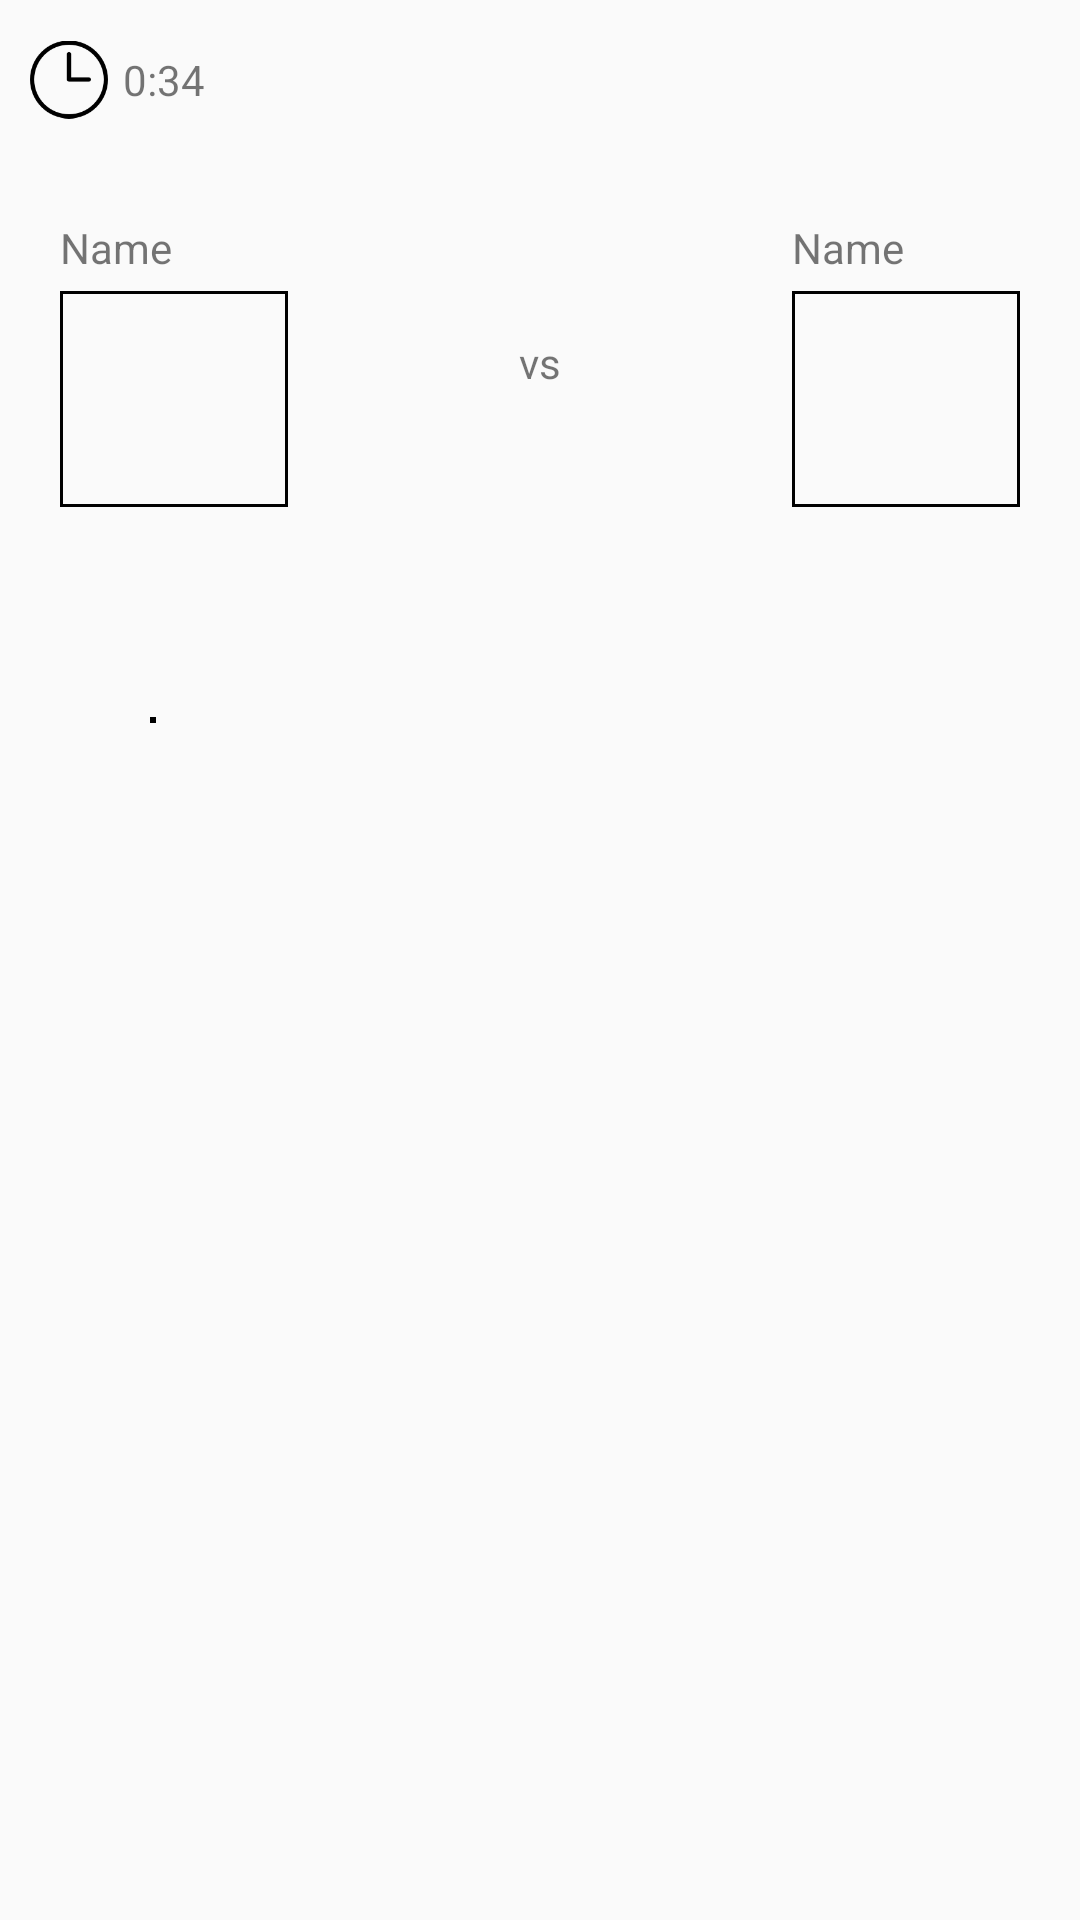

Icons on this 1080px×1920px Android screen, each with its box as (x1, y1, x2, y2):
clock: (30, 41, 108, 119)
